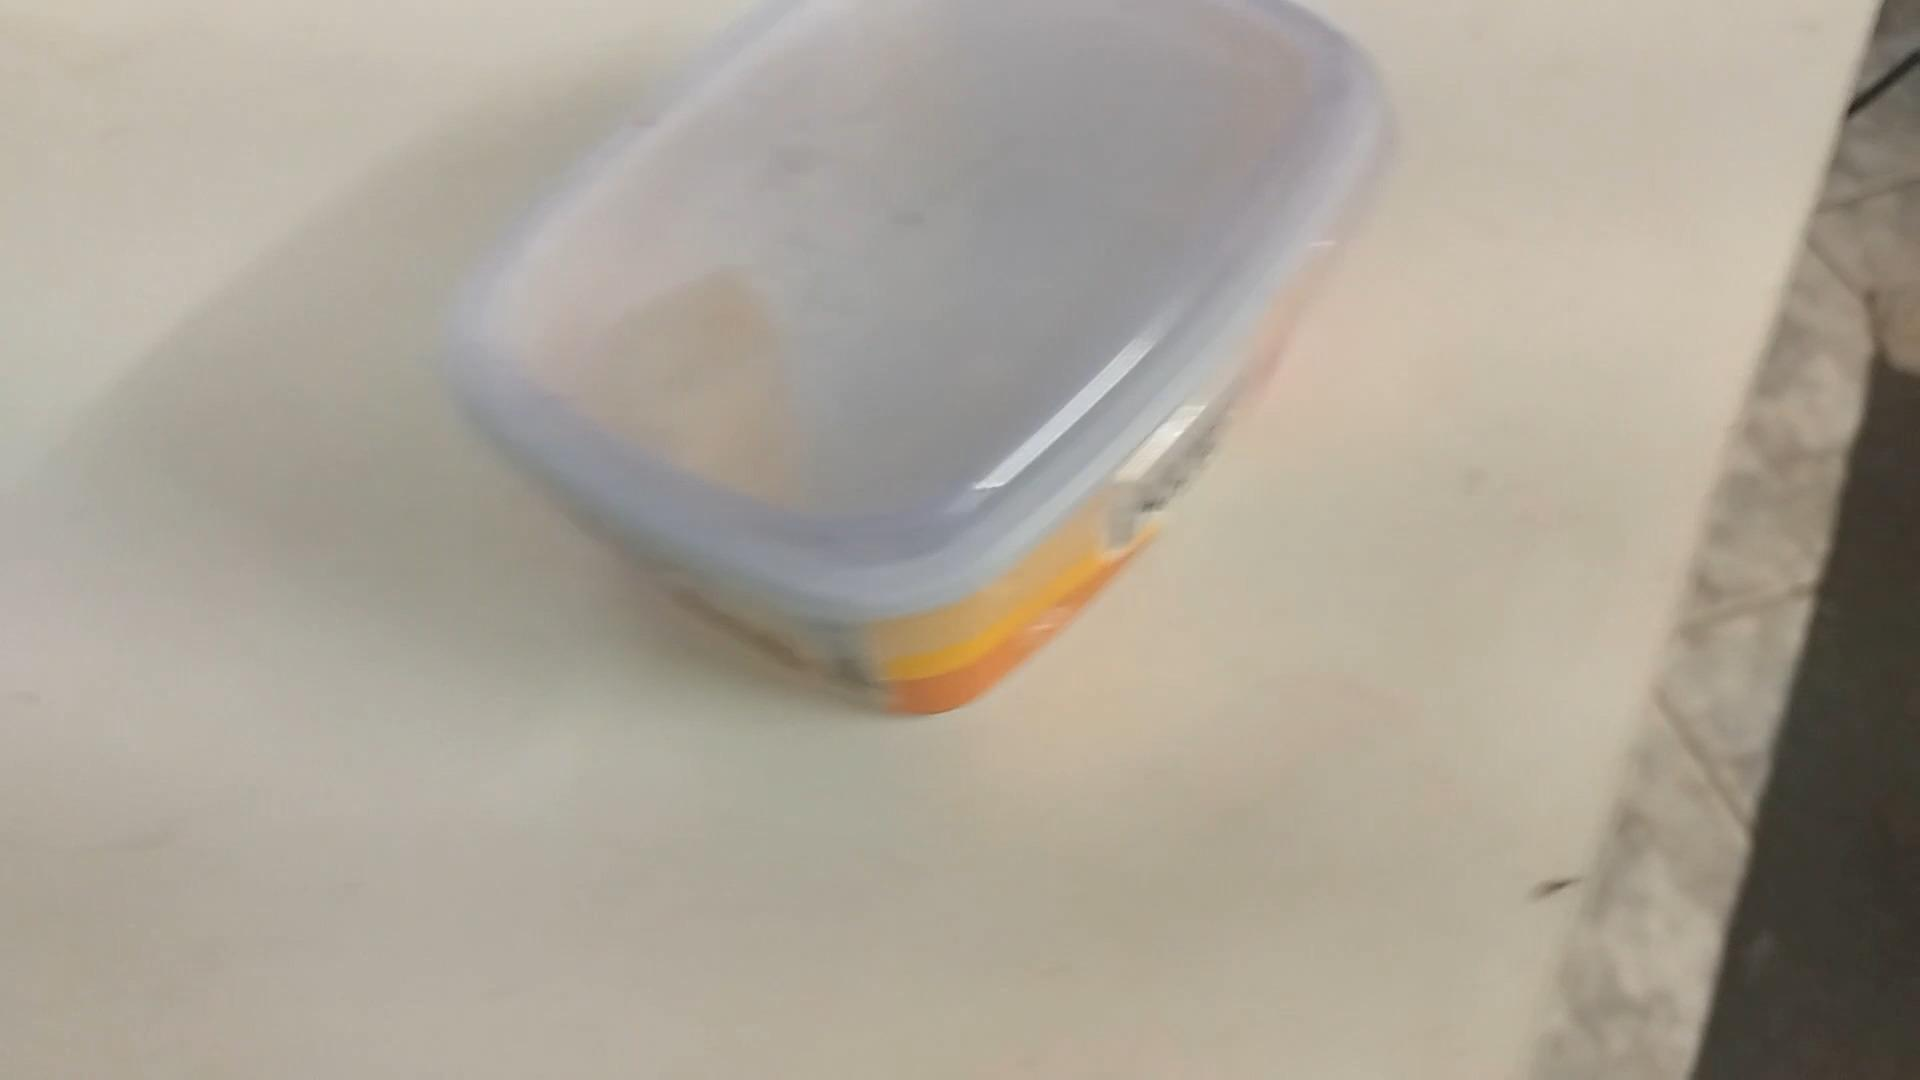butter: (435, 0, 1398, 727)
